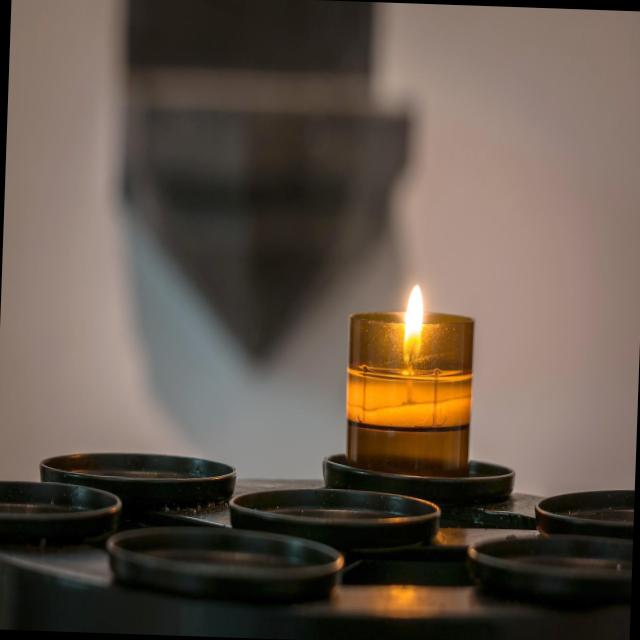Fire_Save: (342, 279, 476, 476)
